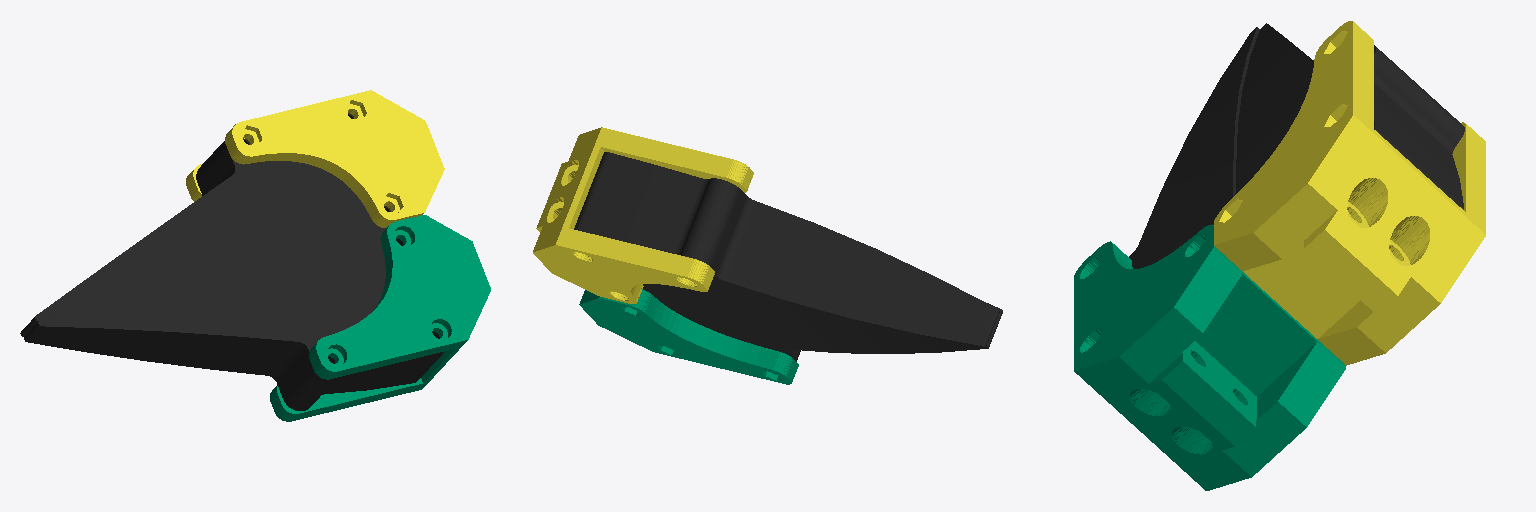
The robot description file, URDF, robot "panda":
<?xml version="1.0" encoding="utf-8"?>
<!-- =================================================================================== -->
<!-- |    This document is a hand edited version of the output autogenerated by xacro  | -->
<!-- |    from panda_arm_hand.urdf.xacro                                               | -->
<!-- |    Please see the README of parent directory for more details.                  | -->
<!-- =================================================================================== -->
<robot xmlns:drake="http://drake.mit.edu" name="panda">
  <material name="dark_grey">
    <color rgba="0.2 0.2 0.2 1"/>
  </material>
  <link name="panda_link0">
    <inertial>
      <mass value="2.92"/>
      <origin xyz="-0.025566 -2.88e-05 0.057332" rpy="0 0 0"/>
      <inertia ixx="0.00782229414331" ixy="-1.56191622996e-05" ixz="-0.00126005738123" iyy="0.0109027971813" iyz="1.08233858202e-05" izz="0.0102355503949"/>
    </inertial>
    <visual>
      <origin rpy="0 0 0"/>
      <geometry>
        <mesh filename="package://drake_models/franka_description/meshes/visual/link0.gltf"/>
      </geometry>
    </visual>
    <collision>
      <origin rpy="0 0 0" xyz="0.02 0.0 0.04"/>
      <geometry>
        <sphere radius="0.06"/>
      </geometry>
    </collision>
    <collision>
      <origin rpy="0 0 0" xyz="0.01 0.05 0.06"/>
      <geometry>
        <sphere radius="0.06"/>
      </geometry>
    </collision>
    <collision>
      <origin rpy="0 0 0" xyz="0.01 -0.05 0.06"/>
      <geometry>
        <sphere radius="0.06"/>
      </geometry>
    </collision>
    <collision>
      <origin rpy="0 0 0" xyz="-0.06 0.0 0.06"/>
      <geometry>
        <sphere radius="0.06"/>
      </geometry>
    </collision>
    <collision>
      <origin rpy="0 0 0" xyz="-0.06 0.05 0.06"/>
      <geometry>
        <sphere radius="0.06"/>
      </geometry>
    </collision>
    <collision>
      <origin rpy="0 0 0" xyz="-0.03 0.05 0.06"/>
      <geometry>
        <sphere radius="0.06"/>
      </geometry>
    </collision>
    <collision>
      <origin rpy="0 0 0" xyz="-0.03 -0.05 0.06"/>
      <geometry>
        <sphere radius="0.06"/>
      </geometry>
    </collision>
    <collision>
      <origin rpy="0 0 0" xyz="-0.06 -0.05 0.06"/>
      <geometry>
        <sphere radius="0.06"/>
      </geometry>
    </collision>
    <collision>
      <origin rpy="0 0 0" xyz="-0.09 -0.05 0.06"/>
      <geometry>
        <sphere radius="0.06"/>
      </geometry>
    </collision>
    <collision>
      <origin rpy="0 0 0" xyz="-0.09 0.0 0.06"/>
      <geometry>
        <sphere radius="0.06"/>
      </geometry>
    </collision>
    <collision>
      <origin rpy="0 0 0" xyz="-0.09 0.05 0.06"/>
      <geometry>
        <sphere radius="0.06"/>
      </geometry>
    </collision>
    <collision>
      <origin rpy="0 0 0" xyz="-0.12 0.0 0.06"/>
      <geometry>
        <sphere radius="0.06"/>
      </geometry>
    </collision>
    <collision>
      <origin rpy="0 0 0" xyz="0.0 0.0 0.113"/>
      <geometry>
        <sphere radius="0.06"/>
      </geometry>
    </collision>
    <collision>
      <origin rpy="0 0 0" xyz="0.0 0.0 0.083"/>
      <geometry>
        <sphere radius="0.06"/>
      </geometry>
    </collision>
  </link>
  <link name="panda_link1">
    <inertial>
      <mass value="2.74"/>
      <origin xyz="0 -0.0324958 -0.0675818" rpy="0 0 0"/>
      <inertia ixx="0.0180416958283" ixy="0.0" ixz="0.0" iyy="0.0159136071891" iyz="0.0046758424612" izz="0.00620690827127"/>
    </inertial>
    <visual>
      <origin rpy="0 0 0"/>
      <geometry>
        <mesh filename="package://drake_models/franka_description/meshes/visual/link1.gltf"/>
      </geometry>
    </visual>
    <collision>
      <origin rpy="0 0 0" xyz="0.0 0.0 -0.13"/>
      <geometry>
        <sphere radius="0.06"/>
      </geometry>
    </collision>
    <collision>
      <origin rpy="0 0 0" xyz="0.0 0.0 -0.16"/>
      <geometry>
        <sphere radius="0.06"/>
      </geometry>
    </collision>
    <collision>
      <origin rpy="0 0 0" xyz="0.0 0.0 -0.19"/>
      <geometry>
        <sphere radius="0.06"/>
      </geometry>
    </collision>
    <collision>
      <origin rpy="0 0 0" xyz="0.0 -0.04 -0.06"/>
      <geometry>
        <sphere radius="0.06"/>
      </geometry>
    </collision>
    <collision>
      <origin rpy="0 0 0" xyz="0.0 -0.0750 -0.0"/>
      <geometry>
        <sphere radius="0.06"/>
      </geometry>
    </collision>
    <collision>
      <origin rpy="0 0 0" xyz="0.0 -0.0350 -0.0"/>
      <geometry>
        <sphere radius="0.06"/>
      </geometry>
    </collision>
  </link>
  <joint name="panda_joint1" type="revolute">
    <origin rpy="0 0 0" xyz="0 0 0.333"/>
    <parent link="panda_link0"/>
    <child link="panda_link1"/>
    <axis xyz="0 0 1"/>
    <limit effort="87" lower="-2.8973" upper="2.8973" velocity="2.1750" drake:acceleration="15.0"/>
  </joint>
  <link name="panda_link2">
    <inertial>
      <mass value="2.74"/>
      <origin xyz="0 -0.06861 0.0322285" rpy="0 0 0"/>
      <inertia ixx="0.0182856182281" ixy="0.0" ixz="0.0" iyy="0.00621358421175" iyz="-0.00472844221905" izz="0.0161514346309"/>
    </inertial>
    <visual>
      <origin rpy="0 0 0"/>
      <geometry>
        <mesh filename="package://drake_models/franka_description/meshes/visual/link2.gltf"/>
      </geometry>
    </visual>
    <collision>
      <origin rpy="0 0 0" xyz="0.0 0.0 0.0"/>
      <geometry>
        <sphere radius="0.06"/>
      </geometry>
    </collision>
    <collision>
      <origin rpy="0 0 0" xyz="0.0 0.0 0.035"/>
      <geometry>
        <sphere radius="0.06"/>
      </geometry>
    </collision>
    <collision>
      <origin rpy="0 0 0" xyz="0.0 0.0 0.075"/>
      <geometry>
        <sphere radius="0.06"/>
      </geometry>
    </collision>
    <collision>
      <origin rpy="0 0 0" xyz="0.0 -0.1710 0.0"/>
      <geometry>
        <sphere radius="0.06"/>
      </geometry>
    </collision>
    <collision>
      <origin rpy="0 0 0" xyz="0.0 -0.1360 0.0"/>
      <geometry>
        <sphere radius="0.06"/>
      </geometry>
    </collision>
    <collision>
      <origin rpy="0 0 0" xyz="0.0 -0.070 0.040"/>
      <geometry>
        <sphere radius="0.06"/>
      </geometry>
    </collision>
  </link>
  <joint name="panda_joint2" type="revolute">
    <origin rpy="-1.57079632679 0 0" xyz="0 0 0"/>
    <parent link="panda_link1"/>
    <child link="panda_link2"/>
    <axis xyz="0 0 1"/>
    <limit effort="87" lower="-1.7628" upper="1.7628" velocity="2.1750" drake:acceleration="7.5"/>
  </joint>
  <link name="panda_link3">
    <inertial>
      <mass value="2.38"/>
      <origin xyz="0.0469893 0.0316374 -0.031704" rpy="0 0 0"/>
      <inertia ixx="0.00771376630908" ixy="-0.00248490625138" ixz="-0.00332147581033" iyy="0.00989108008727" iyz="-0.00217796151484" izz="0.00811723558464"/>
    </inertial>
    <visual>
      <origin rpy="0 0 0"/>
      <geometry>
        <mesh filename="package://drake_models/franka_description/meshes/visual/link3.gltf"/>
      </geometry>
    </visual>
    <collision>
      <origin rpy="0 0 0" xyz="0.0 0.0 -0.11"/>
      <geometry>
        <sphere radius="0.06"/>
      </geometry>
    </collision>
    <collision>
      <origin rpy="0 0 0" xyz="0.0 0.0 -0.07"/>
      <geometry>
        <sphere radius="0.06"/>
      </geometry>
    </collision>
    <collision>
      <origin rpy="0 0 0" xyz="0.0825 0.03 -0.0"/>
      <geometry>
        <sphere radius="0.06"/>
      </geometry>
    </collision>
    <collision>
      <origin rpy="0 0 0" xyz="0.0825 0.06 -0.0"/>
      <geometry>
        <sphere radius="0.06"/>
      </geometry>
    </collision>
    <collision>
      <origin rpy="0 0 0" xyz="0.04 0.03 -0.03"/>
      <geometry>
        <sphere radius="0.06"/>
      </geometry>
    </collision>
  </link>
  <joint name="panda_joint3" type="revolute">
    <origin rpy="1.57079632679 0 0" xyz="0 -0.316 0"/>
    <parent link="panda_link2"/>
    <child link="panda_link3"/>
    <axis xyz="0 0 1"/>
    <limit effort="87" lower="-2.8973" upper="2.8973" velocity="2.1750" drake:acceleration="10.0"/>
  </joint>
  <link name="panda_link4">
    <inertial>
      <mass value="2.38"/>
      <origin xyz="-0.0360446 0.0336853 0.031882" rpy="0 0 0"/>
      <inertia ixx="0.00799663881132" ixy="0.00347095570217" ixz="-0.00241222942995" iyy="0.00825390705278" iyz="0.00235774044121" izz="0.0102515004345"/>
    </inertial>
    <visual>
      <origin rpy="0 0 0"/>
      <geometry>
        <mesh filename="package://drake_models/franka_description/meshes/visual/link4.gltf"/>
      </geometry>
    </visual>
    <collision>
      <origin rpy="0 0 0" xyz="0.0 0.0 0.06"/>
      <geometry>
        <sphere radius="0.06"/>
      </geometry>
    </collision>
    <collision>
      <origin rpy="0 0 0" xyz="0.0 0.0 0.03"/>
      <geometry>
        <sphere radius="0.06"/>
      </geometry>
    </collision>
    <collision>
      <origin rpy="0 0 0" xyz="-0.0350 0.03 0.04"/>
      <geometry>
        <sphere radius="0.05"/>
      </geometry>
    </collision>
    <collision>
      <origin rpy="0 0 0" xyz="-0.05 0.04 0.01"/>
      <geometry>
        <sphere radius="0.055"/>
      </geometry>
    </collision>
    <collision>
      <origin rpy="0 0 0" xyz="0.0 0.0 0.0"/>
      <geometry>
        <sphere radius="0.06"/>
      </geometry>
    </collision>
    <collision>
      <origin rpy="0 0 0" xyz="-0.0825 0.0640 -0.0"/>
      <geometry>
        <sphere radius="0.06"/>
      </geometry>
    </collision>
    <collision>
      <origin rpy="0 0 0" xyz="-0.0825 0.1040 -0.0"/>
      <geometry>
        <sphere radius="0.06"/>
      </geometry>
    </collision>
  </link>
  <joint name="panda_joint4" type="revolute">
    <origin rpy="1.57079632679 0 0" xyz="0.0825 0 0"/>
    <parent link="panda_link3"/>
    <child link="panda_link4"/>
    <axis xyz="0 0 1"/>
    <limit effort="87" lower="-3.0718" upper="-0.0698" velocity="2.1750" drake:acceleration="12.5"/>
  </joint>
  <link name="panda_link5">
    <inertial>
      <mass value="2.74"/>
      <origin xyz="0 0.0610427 -0.104176" rpy="0 0 0"/>
      <inertia ixx="0.030371374513" ixy="6.50283587108e-07" ixz="-1.05129179916e-05" iyy="0.0288752887402" iyz="-0.00775653445787" izz="0.00444134056164"/>
    </inertial>
    <visual>
      <origin rpy="0 0 0"/>
      <geometry>
        <mesh filename="package://drake_models/franka_description/meshes/visual/link5.gltf"/>
      </geometry>
    </visual>
    <collision>
      <origin rpy="0 0 0" xyz="0.0 0.0 -0.24"/>
      <geometry>
        <sphere radius="0.06"/>
      </geometry>
    </collision>
    <collision>
      <origin rpy="0 0 0" xyz="0.0 0.0 -0.21"/>
      <geometry>
        <sphere radius="0.06"/>
      </geometry>
    </collision>
    <collision>
      <origin rpy="0 0 0" xyz="0.0 0.09 -0.055"/>
      <geometry>
        <sphere radius="0.035"/>
      </geometry>
    </collision>
    <collision>
      <origin rpy="0 0 0" xyz="0.0 0.0850 -0.08"/>
      <geometry>
        <sphere radius="0.035"/>
      </geometry>
    </collision>
    <collision>
      <origin rpy="0 0 0" xyz="0.0 0.0850 -0.11"/>
      <geometry>
        <sphere radius="0.035"/>
      </geometry>
    </collision>
    <collision>
      <origin rpy="0 0 0" xyz="0.0 0.08 -0.13"/>
      <geometry>
        <sphere radius="0.035"/>
      </geometry>
    </collision>
    <collision>
      <origin rpy="0 0 0" xyz="0.0 0.08 -0.15"/>
      <geometry>
        <sphere radius="0.035"/>
      </geometry>
    </collision>
    <collision>
      <origin rpy="0 0 0" xyz="0.0 0.07 -0.16"/>
      <geometry>
        <sphere radius="0.04"/>
      </geometry>
    </collision>
    <collision>
      <origin rpy="0 0 0" xyz="0.0 0.08 -0.02"/>
      <geometry>
        <sphere radius="0.05"/>
      </geometry>
    </collision>
    <collision>
      <origin rpy="0 0 0" xyz="0.0 0.08 -0.0"/>
      <geometry>
        <sphere radius="0.055"/>
      </geometry>
    </collision>
    <collision>
      <origin rpy="0 0 0" xyz="0.0 0.05 -0.20"/>
      <geometry>
        <sphere radius="0.055"/>
      </geometry>
    </collision>
    <collision>
      <origin rpy="0 0 0" xyz="0.0 0.07 -0.0"/>
      <geometry>
        <sphere radius="0.06"/>
      </geometry>
    </collision>
  </link>
  <joint name="panda_joint5" type="revolute">
    <origin rpy="-1.57079632679 0 0" xyz="-0.0825 0.384 0"/>
    <parent link="panda_link4"/>
    <child link="panda_link5"/>
    <axis xyz="0 0 1"/>
    <limit effort="12" lower="-2.8973" upper="2.8973" velocity="2.610" drake:acceleration="15.0"/>
  </joint>
  <link name="panda_link6">
    <inertial>
      <mass value="1.55"/>
      <origin xyz="0.0510509 0.009108 0.0106343" rpy="0 0 0"/>
      <inertia ixx="0.00303336450376" ixy="-0.000437276865508" ixz="0.000629257294877" iyy="0.00404479911567" iyz="0.000130472021025" izz="0.00558234286039"/>
    </inertial>
    <visual>
      <origin rpy="0 0 0"/>
      <geometry>
        <mesh filename="package://drake_models/franka_description/meshes/visual/link6.gltf"/>
      </geometry>
    </visual>
    <collision>
      <origin rpy="0 0 0" xyz="0.08 0.03 0.0"/>
      <geometry>
        <sphere radius="0.06"/>
      </geometry>
    </collision>
    <collision>
      <origin rpy="0 0 0" xyz="0.04 0.01 0.0"/>
      <geometry>
        <sphere radius="0.06"/>
      </geometry>
    </collision>
    <collision>
      <origin rpy="0 0 0" xyz="0.04 0.0 0.0"/>
      <geometry>
        <sphere radius="0.06"/>
      </geometry>
    </collision>
    <collision>
      <origin rpy="0 0 0" xyz="0.0 0.0 0.01"/>
      <geometry>
        <sphere radius="0.06"/>
      </geometry>
    </collision>
    <collision>
      <origin rpy="0 0 0" xyz="0.0 0.0 -0.03"/>
      <geometry>
        <sphere radius="0.05"/>
      </geometry>
    </collision>
  </link>
  <joint name="panda_joint6" type="revolute">
    <origin rpy="1.57079632679 0 0" xyz="0 0 0"/>
    <parent link="panda_link5"/>
    <child link="panda_link6"/>
    <axis xyz="0 0 1"/>
    <limit effort="12" lower="-0.0175" upper="3.7525" velocity="2.610" drake:acceleration="20.0"/>
  </joint>
  <link name="panda_link7">
    <inertial>
      <mass value="0.54"/>
      <origin xyz="0.0109695 0.0107965 0.0650411" rpy="0 0 0"/>
      <inertia ixx="0.000888868887021" ixy="-0.00012239074652" ixz="3.98699829666e-05" iyy="0.000888001373233" iyz="-9.33825115206e-05" izz="0.0007176834609"/>
    </inertial>
    <visual>
      <origin rpy="0 0 0"/>
      <geometry>
        <mesh filename="package://drake_models/franka_description/meshes/visual/link7.gltf"/>
      </geometry>
    </visual>
    <collision>
      <origin rpy="0 0 0" xyz="0 0 0.06"/>
      <geometry>
        <sphere radius="0.06"/>
      </geometry>
    </collision>
    <collision>
      <origin rpy="0 0 0" xyz="0 0 0.01"/>
      <geometry>
        <sphere radius="0.05"/>
      </geometry>
    </collision>
  </link>
  <joint name="panda_joint7" type="revolute">
    <origin rpy="1.57079632679 0 0" xyz="0.088 0 0"/>
    <parent link="panda_link6"/>
    <child link="panda_link7"/>
    <axis xyz="0 0 1"/>
    <limit effort="12" lower="-2.8973" upper="2.8973" velocity="2.610" drake:acceleration="20.0"/>
  </joint>
  <link name="panda_link8">
    <collision>
      <origin rpy="0 0 0" xyz="0.042 0.042 -0.02"/>
      <geometry>
        <sphere radius="0.04"/>
      </geometry>
    </collision>
  </link>
  <joint name="panda_joint8" type="fixed">
    <origin rpy="0 0 0" xyz="0 0 0.107"/>
    <parent link="panda_link7"/>
    <child link="panda_link8"/>
  </joint>
  <joint name="panda_hand_joint" type="fixed">
    <parent link="panda_link8"/>
    <child link="panda_hand"/>
    <origin rpy="0 0 -0.785398163397" xyz="0 0 0"/>
  </joint>
  <transmission name="panda_tran1">
    <type>transmission_interface/SimpleTransmission</type>
    <joint name="panda_joint1">
      <hardwareInterface>PositionJointInterface</hardwareInterface>
    </joint>
    <actuator name="panda_motor1">
      <hardwareInterface>PositionJointInterface</hardwareInterface>
      <mechanicalReduction>1</mechanicalReduction>
      <drake:gear_ratio value="100.0" />
      <drake:rotor_inertia value="0.0000605721456" />
    </actuator>
  </transmission>
  <transmission name="panda_tran2">
    <type>transmission_interface/SimpleTransmission</type>
    <joint name="panda_joint2">
      <hardwareInterface>PositionJointInterface</hardwareInterface>
    </joint>
    <actuator name="panda_motor2">
      <hardwareInterface>PositionJointInterface</hardwareInterface>
      <mechanicalReduction>1</mechanicalReduction>
      <drake:gear_ratio value="100.0" />
      <drake:rotor_inertia value="0.0000605721456" />
    </actuator>
  </transmission>
  <transmission name="panda_tran3">
    <type>transmission_interface/SimpleTransmission</type>
    <joint name="panda_joint3">
      <hardwareInterface>PositionJointInterface</hardwareInterface>
    </joint>
    <actuator name="panda_motor3">
      <hardwareInterface>PositionJointInterface</hardwareInterface>
      <mechanicalReduction>1</mechanicalReduction>
      <drake:gear_ratio value="100.0" />
      <drake:rotor_inertia value="0.0000462474144" />
    </actuator>
  </transmission>
  <transmission name="panda_tran4">
    <type>transmission_interface/SimpleTransmission</type>
    <joint name="panda_joint4">
      <hardwareInterface>PositionJointInterface</hardwareInterface>
    </joint>
    <actuator name="panda_motor4">
      <hardwareInterface>PositionJointInterface</hardwareInterface>
      <mechanicalReduction>1</mechanicalReduction>
      <drake:gear_ratio value="100.0" />
      <drake:rotor_inertia value="0.0000462474144" />
    </actuator>
  </transmission>
  <transmission name="panda_tran5">
    <type>transmission_interface/SimpleTransmission</type>
    <joint name="panda_joint5">
      <hardwareInterface>PositionJointInterface</hardwareInterface>
    </joint>
    <actuator name="panda_motor5">
      <hardwareInterface>PositionJointInterface</hardwareInterface>
      <mechanicalReduction>1</mechanicalReduction>
      <drake:gear_ratio value="100.0" />
      <drake:rotor_inertia value="0.0000205544064" />
    </actuator>
  </transmission>
  <transmission name="panda_tran6">
    <type>transmission_interface/SimpleTransmission</type>
    <joint name="panda_joint6">
      <hardwareInterface>PositionJointInterface</hardwareInterface>
    </joint>
    <actuator name="panda_motor6">
      <hardwareInterface>PositionJointInterface</hardwareInterface>
      <mechanicalReduction>1</mechanicalReduction>
      <drake:gear_ratio value="100.0" />
      <drake:rotor_inertia value="0.0000205544064" />
    </actuator>
  </transmission>
  <transmission name="panda_tran7">
    <type>transmission_interface/SimpleTransmission</type>
    <joint name="panda_joint7">
      <hardwareInterface>PositionJointInterface</hardwareInterface>
    </joint>
    <actuator name="panda_motor7">
      <hardwareInterface>PositionJointInterface</hardwareInterface>
      <mechanicalReduction>1</mechanicalReduction>
      <drake:gear_ratio value="100.0" />
      <drake:rotor_inertia value="0.0000205544064" />
    </actuator>
  </transmission>
  <link name="panda_hand">
    <inertial>
      <mass value="0.73"/>
      <origin xyz="0 0.0015244 0.0275912" rpy="0 0 0"/>
      <inertia ixx="0.00278560230025" ixy="0.0" ixz="0.0" iyy="0.000400033405336" iyz="0.0" izz="0.00256378041832"/>
    </inertial>
    <visual>
      <origin rpy="0 0 0"/>
      <geometry>
        <mesh filename="package://drake_models/franka_description/meshes/visual/hand.gltf"/>
      </geometry>
    </visual>
    <collision>
      <origin rpy="0 0 0" xyz="0 -0.06 0.015"/>
      <geometry>
        <sphere radius="0.05"/>
      </geometry>
    </collision>
    <collision>
      <origin rpy="0 0 0" xyz="0 -0.06 0.03"/>
      <geometry>
        <sphere radius="0.05"/>
      </geometry>
    </collision>
    <collision>
      <origin rpy="0 0 0" xyz="0 0 0.03"/>
      <geometry>
        <sphere radius="0.05"/>
      </geometry>
    </collision>
    <collision>
      <origin rpy="0 0 0" xyz="0 0.06 0.03"/>
      <geometry>
        <sphere radius="0.05"/>
      </geometry>
    </collision>
  </link>
  <link name="panda_leftfinger">
    <inertial>
      <mass value="0.1"/>
      <origin xyz="0 0.0145644 0.0227941" rpy="0 0 0"/>
      <inertia ixx="3.01220925051e-05" ixy="0.0" ixz="0.0" iyy="2.95873808038e-05" iyz="0.0" izz="6.95125211657e-06"/>
    </inertial>
    <visual>
      <origin rpy="3.14159265359 0 -1.57079632679" xyz="-0.0105 0.0175 0.019"/>
      <geometry>
        <mesh filename="package://drake_models/franka_description/meshes/visual/finger_holder.obj"/>
      </geometry>
    </visual>
    <visual>
      <origin rpy="3.14159265359 0 1.57079632679" xyz="0.0125 0 0.023"/>
      <geometry>
        <mesh filename="package://drake_models/franka_description/meshes/visual/long_finger.obj"/>
      </geometry>
      <material name="dark_grey"/>
    </visual>
    <collision>
      <origin rpy="3.14159265359 0 1.57079632679" xyz="0.0125 0 0.023"/>
      <geometry>
        <mesh filename="package://drake_models/franka_description/meshes/visual/long_finger.obj"/>
      </geometry>
    </collision>
  </link>
  <link name="panda_rightfinger">
    <inertial>
      <mass value="0.1"/>
      <origin xyz="0 0.0145644 0.0227941" rpy="0 0 3.14159265359"/>
      <inertia ixx="3.01220925051e-05" ixy="0.0" ixz="0.0" iyy="2.95873808038e-05" iyz="0.0" izz="6.95125211657e-06"/>
    </inertial>
    <visual>
      <origin rpy="3.14159265359 0 1.57079632679" xyz="0.0105 -0.0175 0.019"/>
      <geometry>
        <mesh filename="package://drake_models/franka_description/meshes/visual/finger_holder.obj"/>
      </geometry>
    </visual>
    <visual>
      <origin rpy="3.14159265359 0 -1.57079632679" xyz="-0.0125 0 0.023"/>
      <geometry>
        <mesh filename="package://drake_models/franka_description/meshes/visual/long_finger.obj"/>
      </geometry>
      <material name="dark_grey"/>
    </visual>
    <collision>
      <origin rpy="3.14159265359 0 -1.57079632679" xyz="-0.0125 0 0.023"/>
      <geometry>
        <mesh filename="package://drake_models/franka_description/meshes/visual/long_finger.obj"/>
      </geometry>
    </collision>
  </link>
  <link name="finger_tip"/>
  <joint name="finger_tip_joint" type="fixed">
    <parent link="panda_hand"/>
    <child link="finger_tip"/>
    <origin rpy="3.14159 0 0" xyz="0 0 0.203191"/>
  </joint>
  <joint name="panda_finger_joint1" type="fixed">
    <parent link="panda_hand"/>
    <child link="panda_leftfinger"/>
    <origin rpy="0 0 0" xyz="0 0 0.0584"/>
    <axis xyz="0 1 0"/>
    <limit effort="20" lower="0.0" upper="0.04" velocity="0.2"/>
  </joint>
  <joint name="panda_finger_joint2" type="fixed">
    <parent link="panda_hand"/>
    <child link="panda_rightfinger"/>
    <origin rpy="0 0 0" xyz="0 0 0.0584"/>
    <axis xyz="0 -1 0"/>
    <limit effort="20" lower="0.0" upper="0.04" velocity="0.2"/>
  </joint>
  <drake:collision_filter_group name="group_link57">
    <drake:member link="panda_link5"/>
    <drake:member link="panda_link7"/>
    <drake:ignored_collision_filter_group name="group_link57"/>
  </drake:collision_filter_group>
  <drake:collision_filter_group name="group_link68">
    <drake:member link="panda_link6"/>
    <drake:member link="panda_link8"/>
    <drake:ignored_collision_filter_group name="group_link68"/>
  </drake:collision_filter_group>
</robot>

--- Render facts (derived) ---
3 views of the same robot in one strip: view 1: azimuth 30°, elevation 25°; view 2: azimuth 150°, elevation 25°; view 3: azimuth 270°, elevation 25° (orthographic).
Robot: panda — 13 links, 12 joints (7 revolute, 5 fixed); root link panda_link0; default pose: joints at zero except 1 at the middle of their limits (panda_joint4 = -1.57).
Links seen in each view (by area): view 1: panda_leftfinger, panda_rightfinger; view 2: panda_rightfinger, panda_leftfinger; view 3: panda_rightfinger, panda_leftfinger.
Boxes of the visible links, x1=… form: panda_leftfinger: x1=24, y1=215, x2=490, y2=421; panda_rightfinger: x1=20, y1=90, x2=444, y2=336; panda_rightfinger: x1=533, y1=127, x2=999, y2=348; panda_leftfinger: x1=579, y1=289, x2=1002, y2=384; panda_rightfinger: x1=1214, y1=21, x2=1485, y2=365; panda_leftfinger: x1=1074, y1=27, x2=1345, y2=490.
Size in the robot's own frame: 0.1398 by 0.0834 by 0.084 metres.
4 mesh visuals loaded from 11 distinct referenced files (2 OBJ); not drawn: 9 (reference not matched to a file when rendering).